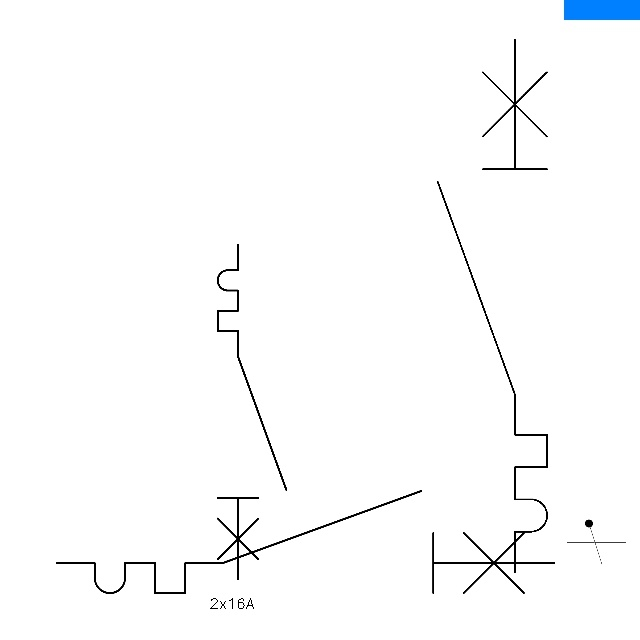interruptor_termomagnetico: (424, 26, 561, 586), (44, 478, 566, 606), (209, 236, 295, 588)
